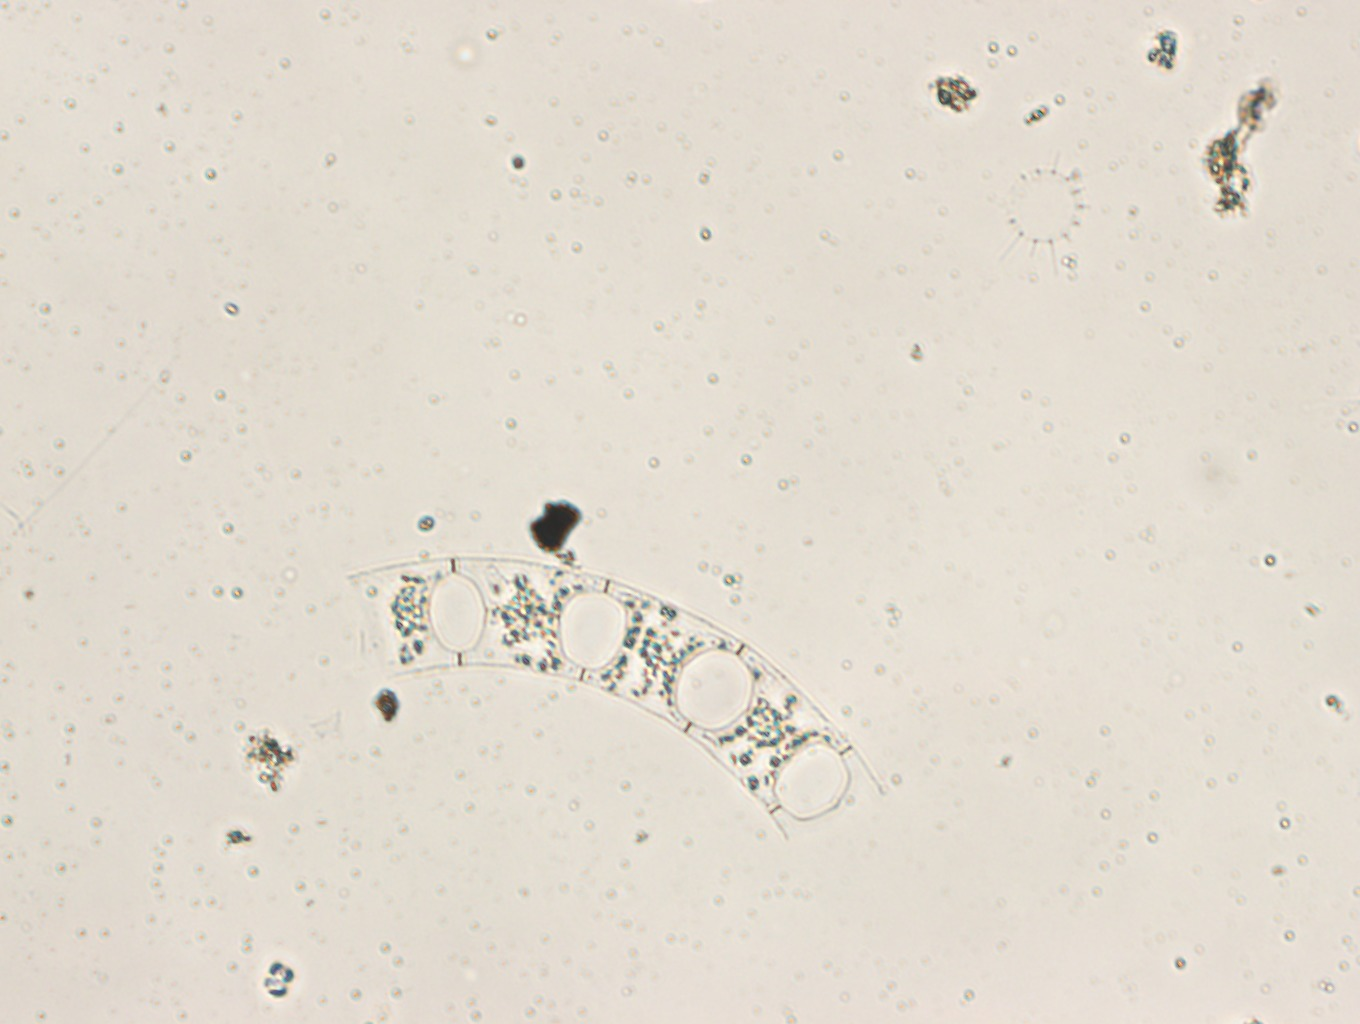bacteriastrum: (998, 150, 1100, 274)
eucampia: (345, 558, 886, 840)
